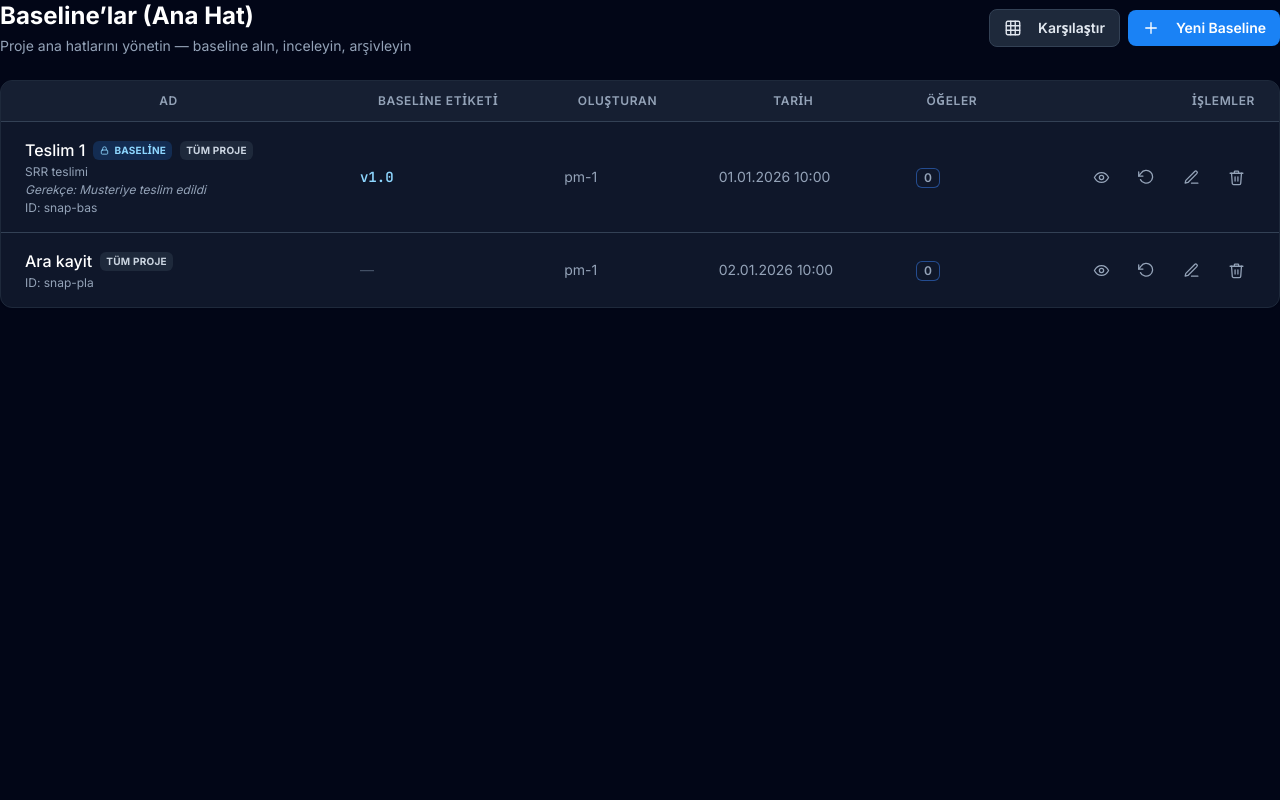
Test case: Baseline — etiketleme › yeni snapshot formunda surum etiketi ve aciklama girilebilir
Click the button with test id "snapshot-new" at (1204, 28), box top-left (1128, 10), bottom-right (1279, 46)
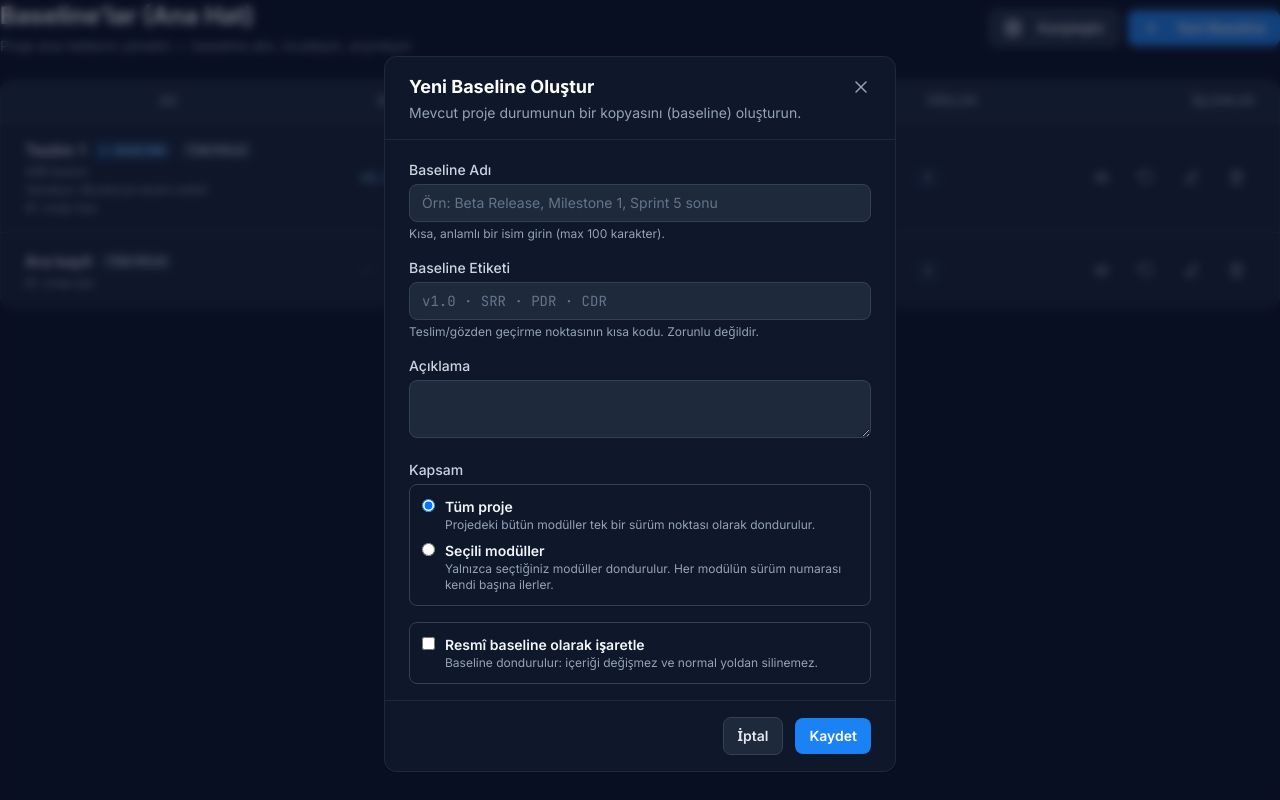
Result: the field with test id "snapshot-label-input" is shown at top-left (409, 282), bottom-right (871, 320)
Result: the text box with test id "snapshot-desc-input" is shown at top-left (409, 380), bottom-right (871, 438)
